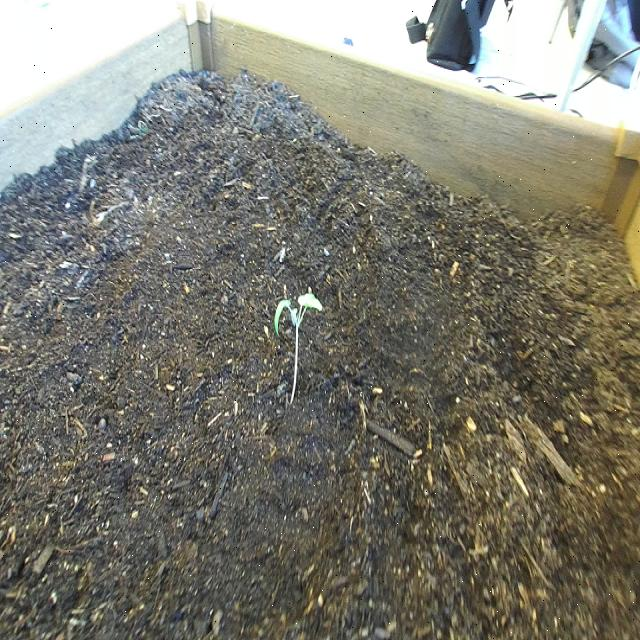Healthy: (276, 290, 324, 414)
